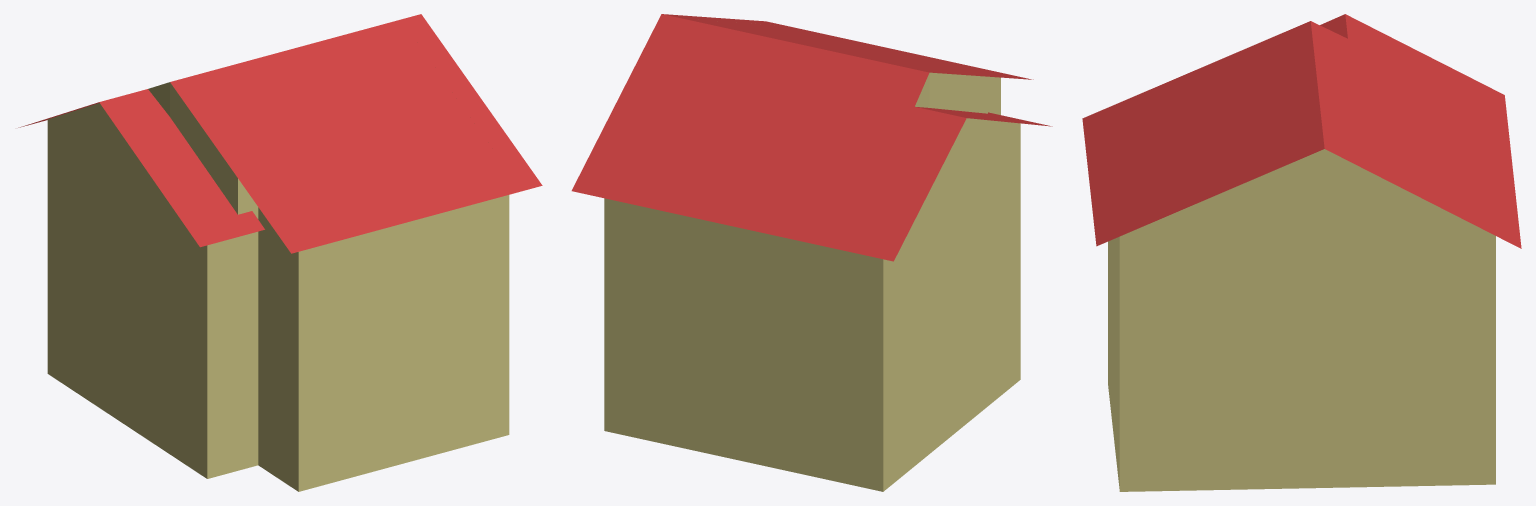
The picture shows the model from 3 angles, left to right: view 1: azimuth 30°, elevation 25°; view 2: azimuth 150°, elevation 25°; view 3: azimuth 270°, elevation 25°; orthographic projection.
Parts seen in each view (by area): view 1: group_5, group_3, group_9, group_7, group_4, group_8; view 2: group_5, group_3, group_9, group_4, group_7; view 3: group_5, group_3, group_4.
Boxes of the visible parts, x1,y1,x2,y2 form: group_5: (47, 82, 509, 491); group_3: (170, 19, 542, 253); group_9: (119, 131, 237, 478); group_7: (99, 89, 264, 247); group_4: (18, 14, 542, 209); group_8: (101, 97, 206, 246); group_5: (604, 72, 1000, 491); group_3: (578, 14, 1033, 261); group_9: (945, 118, 1020, 440); group_4: (571, 14, 910, 260); group_7: (917, 107, 1052, 126); group_5: (1108, 149, 1495, 491); group_3: (1082, 14, 1504, 245); group_4: (1096, 95, 1521, 248).
Bounding box in the file's own units: 11.73 × 13.42 × 11.78.
